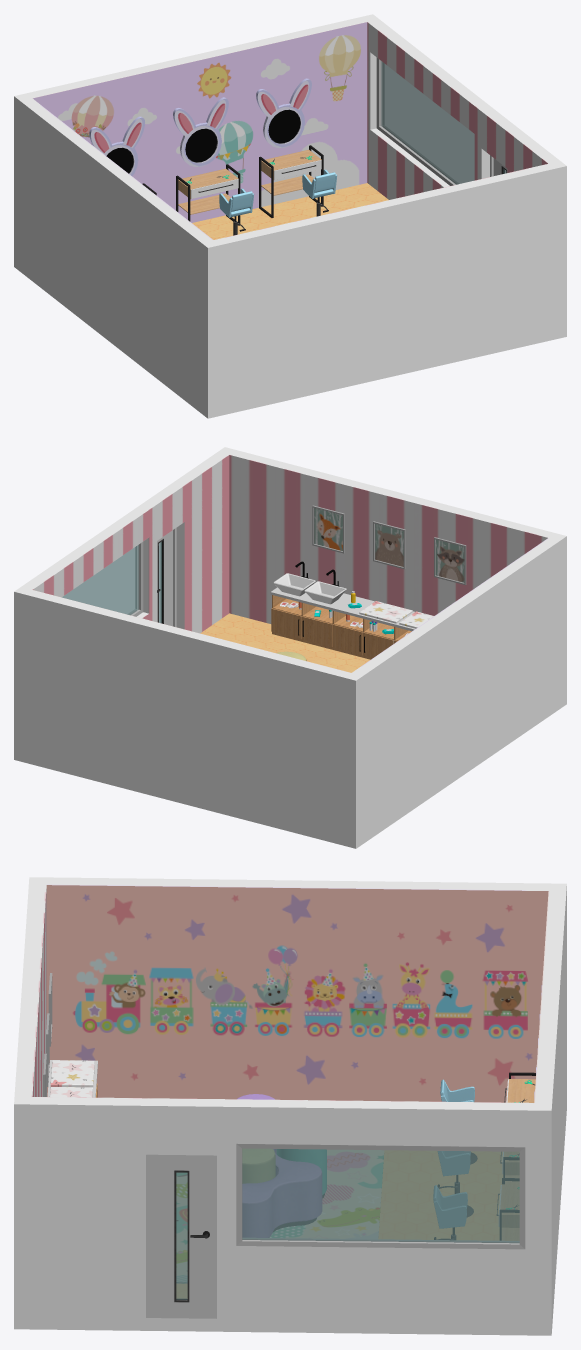
Rendered from Haircut_Unit.fbx.
3 renders of one model, top to bottom at view 1: azimuth 30°, elevation 25°; view 2: azimuth 150°, elevation 25°; view 3: azimuth 270°, elevation 25°, orthographic. The views are drawn at different scales.
Parts seen in each view (by area): view 1: HC_Wall_03, HC_Wall_02, HC_Wall_04, HC_Wall_01, HC_Window, HC_HaircutTable_02, HC_HaircutTable_01, HC_Floor, HC_HaircutTable_03, HC_haircutChair_01, HC_haircutChair_02; view 2: HC_Wall_04, HC_Wall_02, HC_Wall_03, HC_Wall_01, HC_LongCupboard, HC_Window, HC_Floor, HC_Door, HC_Frame_01, HC_Frame_03, HC_Frame_02, HC_BabyProducts; view 3: HC_Wall_02, HC_Wall_01, HC_Window, HC_Door, HC_Floor, HC_Wall_04, HC_FloorCarpet, HC_StrangeSofa, HC_Wall_03, HC_DoorFrame, HC_LongCupboard, HC_HaircutTable_02 (+4 smaller).
Part boxes in pixels (x1,y1,x2,y2): HC_Wall_03: (208,163,566,418); HC_Wall_02: (14,96,213,418); HC_Wall_04: (14,14,372,222); HC_Wall_01: (367,14,566,199); HC_Window: (376,57,474,185); HC_HaircutTable_02: (256,78,323,217); HC_HaircutTable_01: (173,97,240,225); HC_Floor: (192,183,388,239); HC_HaircutTable_03: (89,116,156,195); HC_haircutChair_01: (219,188,253,235); HC_haircutChair_02: (302,169,337,216); HC_Wall_04: (14,590,355,848); HC_Wall_02: (352,536,566,848); HC_Wall_03: (225,447,565,623); HC_Wall_01: (14,447,229,633); HC_LongCupboard: (270,561,433,659); HC_Window: (62,542,143,616); HC_Floor: (200,613,370,672); HC_Door: (157,530,172,626); HC_Frame_01: (312,505,344,553); HC_Frame_03: (434,537,466,585); HC_Frame_02: (373,521,405,569); HC_BabyProducts: (280,591,408,635); HC_Wall_02: (30,877,566,1102); HC_Wall_01: (14,1097,551,1335); HC_Window: (236,1143,525,1249); HC_Door: (150,1159,211,1318); HC_Floor: (176,1150,502,1298); HC_Wall_04: (534,884,566,1333); HC_FloorCarpet: (176,1150,383,1283); HC_StrangeSofa: (237,1094,326,1237); HC_Wall_03: (14,877,46,1103); HC_DoorFrame: (146,1154,216,1318); HC_LongCupboard: (47,1060,97,1097); HC_HaircutTable_02: (497,1091,534,1240).
Bounding box in the file's own units: 974 × 437 × 974.
